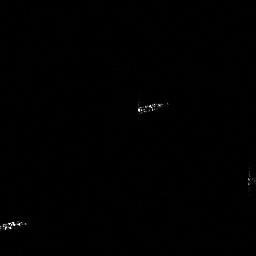ship: (133, 99, 167, 116), (1, 217, 28, 233)
